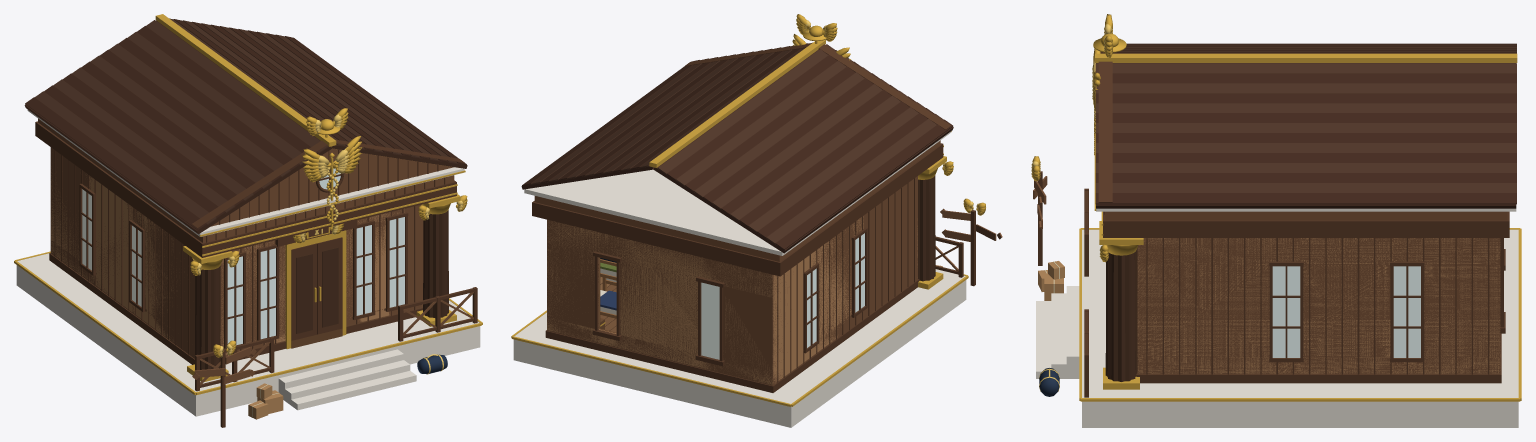
File: hermes_cabin.glb
3 renders of one model, left to right at view 1: azimuth 30°, elevation 25°; view 2: azimuth 150°, elevation 25°; view 3: azimuth 270°, elevation 25°, orthographic. The views are drawn at different scales.
Parts seen in each view (by area): view 1: HER_roof_b, HER_wood_dark, HER_white_base, HER_roof_a, HER_wood_brown, HER_gold, INT_plank, HER_window, HER_column_dark, DOOR_leaf_L, DOOR_leaf_R, HER_gold_light (+3 smaller); view 2: HER_wood_brown, HER_white_base, HER_roof_b, HER_roof_a, HER_wood_dark, INT_plank, HER_gold, HER_window, HER_column_dark, INT_floor; view 3: HER_wood_brown, HER_roof_b, HER_roof_a, HER_white_base, HER_wood_dark, INT_plank, HER_gold, HER_window, HER_column_dark, HER_parcel, HER_bag_navy.
Boxes of the visible parts, <box> form: HER_roof_b: <box>24,19,467,234</box>; HER_wood_dark: <box>35,121,477,427</box>; HER_white_base: <box>16,110,480,416</box>; HER_roof_a: <box>35,18,457,224</box>; HER_wood_brown: <box>38,118,473,385</box>; HER_gold: <box>14,14,482,395</box>; INT_plank: <box>50,166,422,354</box>; HER_window: <box>82,168,404,345</box>; HER_column_dark: <box>195,210,448,369</box>; DOOR_leaf_L: <box>291,243,316,348</box>; DOOR_leaf_R: <box>316,237,342,334</box>; HER_gold_light: <box>197,114,463,374</box>; HER_wood_brown: <box>534,140,1002,385</box>; HER_white_base: <box>513,131,966,427</box>; HER_roof_b: <box>521,43,953,253</box>; HER_roof_a: <box>531,42,943,243</box>; HER_wood_dark: <box>532,43,975,392</box>; INT_plank: <box>547,216,917,384</box>; HER_gold: <box>511,14,985,406</box>; HER_window: <box>701,233,864,359</box>; HER_column_dark: <box>918,175,935,281</box>; INT_floor: <box>547,285,903,385</box>; HER_wood_brown: <box>1033,176,1507,374</box>; HER_roof_b: <box>1095,43,1516,208</box>; HER_roof_a: <box>1095,44,1516,192</box>; HER_white_base: <box>1036,208,1518,427</box>; HER_wood_dark: <box>1038,52,1509,397</box>; INT_plank: <box>1137,238,1500,373</box>; HER_gold: <box>1032,14,1521,401</box>; HER_window: <box>1272,266,1420,357</box>; HER_column_dark: <box>1105,249,1137,381</box>; HER_parcel: <box>1038,261,1064,300</box>; HER_bag_navy: <box>1039,368,1059,396</box>.
Size of what is drawn, in the model's own units: 9.28 by 7.57 by 10.55.
